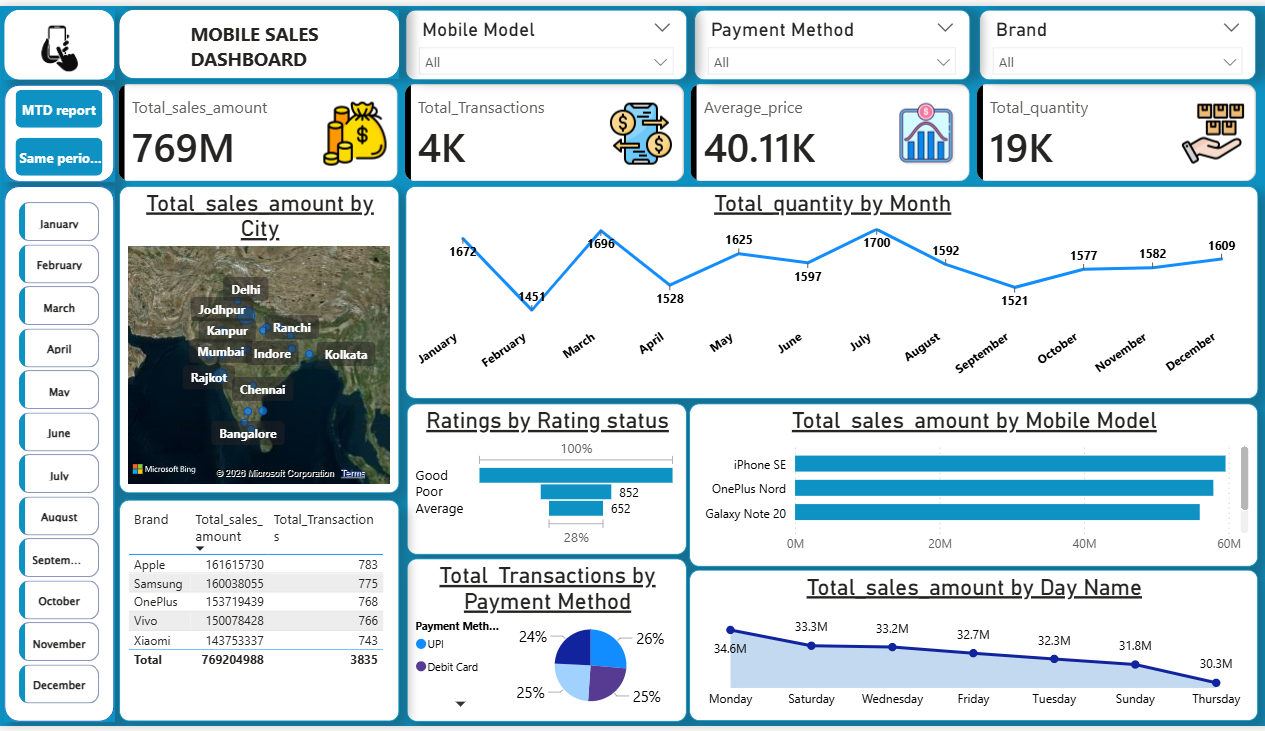

This screenshot's page, from the dashboard's own definition file:
{"tool":"powerbi","page":{"name":"Dashboard","canvas":[1280,720],"ordinal":0},"visuals":[{"type":"shape","box":[5.7,4.3,110,70],"z":0},{"type":"image","box":[20,2.9,82.9,80],"z":1000},{"type":"shape","box":[5.7,78.6,110,97.1],"z":2000},{"type":"shape","box":[5.7,180,110,535.7],"z":3000},{"type":"advancedSlicerVisual","fields":{"Values":["Custom_calendar.Date.Variation.Date Hierarchy.Month"]},"box":[15.7,191.4,90,517.1],"z":4000},{"type":"cardVisual","fields":{"Data":["Mobiles_sales_data.Total_sales_amount","Mobiles_sales_data.Total_Transactions","Mobiles_sales_data.Average_price","Mobiles_sales_data.Total_quantity"]},"box":[104.3,61.4,1174.3,131.4],"z":5000},{"type":"slicer","fields":{"Values":["Mobiles_sales_data.Brand"]},"box":[981.4,4.3,277.1,70],"z":6000},{"type":"slicer","fields":{"Values":["Mobiles_sales_data.Payment Method"]},"box":[695.7,4.3,275.7,70],"z":7000},{"type":"slicer","fields":{"Values":["Mobiles_sales_data.Mobile Model"]},"box":[407.1,4.3,281.4,70],"z":8000},{"type":"shape","box":[121.4,4.3,280,68.6],"z":9000},{"type":"textbox","box":[187.1,10,150,60],"z":10000},{"type":"map","fields":{"Category":["Mobiles_sales_data.City"],"Size":["Mobiles_sales_data.Total_sales_amount"]},"box":[121.4,180,280,307.1],"z":11000},{"type":"lineChart","fields":{"Category":["Custom_calendar.Date.Variation.Date Hierarchy.Month"],"Y":["Mobiles_sales_data.Total_quantity"]},"box":[407.1,180,852.9,212.9],"z":12000},{"type":"funnel","title":" Ratings by Rating status","fields":{"Y":["CountNonNull(Mobiles_sales_data.Customer Ratings)"],"Category":["Mobiles_sales_data.Rating status"]},"box":[408.6,397.1,280,151.4],"z":13000},{"type":"pieChart","fields":{"Y":["Mobiles_sales_data.Total_Transactions"],"Category":["Mobiles_sales_data.Payment Method"]},"box":[408.6,552.9,280,162.9],"z":14000},{"type":"clusteredBarChart","fields":{"Y":["Mobiles_sales_data.Total_sales_amount"],"Category":["Mobiles_sales_data.Mobile Model"]},"box":[691.4,397.1,568.6,162.9],"z":15000},{"type":"areaChart","fields":{"Category":["Custom_calendar.Day Name"],"Y":["Mobiles_sales_data.Total_sales_amount"]},"box":[691.4,564.3,568.6,151.4],"z":16000},{"type":"tableEx","fields":{"Values":["Mobiles_sales_data.Brand","Mobiles_sales_data.Total_sales_amount","Mobiles_sales_data.Total_Transactions"]},"box":[121.4,494.3,280,221.4],"z":17000},{"type":"pageNavigator","box":[17.1,84.3,87.1,87.1],"z":18000}]}

Visuals, with their boxes in screenshot pixels (x1, y1, x2, y2), scaled from the page's 1280x720 canvas onto the 1265x731 screenshot:
shape: Rect(6, 4, 114, 75)
image: Rect(20, 3, 102, 84)
shape: Rect(6, 80, 114, 178)
shape: Rect(6, 183, 114, 727)
advancedSlicerVisual - Custom_calendar.Date.Variation.Date Hierarchy.Month: Rect(16, 194, 104, 719)
cardVisual - Mobiles_sales_data.Total_sales_amount x Mobiles_sales_data.Total_Transactions: Rect(103, 62, 1264, 196)
slicer - Mobiles_sales_data.Brand: Rect(970, 4, 1244, 75)
slicer - Mobiles_sales_data.Payment Method: Rect(688, 4, 960, 75)
slicer - Mobiles_sales_data.Mobile Model: Rect(402, 4, 680, 75)
shape: Rect(120, 4, 397, 74)
textbox: Rect(185, 10, 333, 71)
map - Mobiles_sales_data.City x Mobiles_sales_data.Total_sales_amount: Rect(120, 183, 397, 495)
lineChart - Custom_calendar.Date.Variation.Date Hierarchy.Month x Mobiles_sales_data.Total_quantity: Rect(402, 183, 1245, 399)
" Ratings by Rating status" funnel: Rect(404, 403, 681, 557)
pieChart - Mobiles_sales_data.Total_Transactions x Mobiles_sales_data.Payment Method: Rect(404, 561, 681, 727)
clusteredBarChart - Mobiles_sales_data.Total_sales_amount x Mobiles_sales_data.Mobile Model: Rect(683, 403, 1245, 569)
areaChart - Custom_calendar.Day Name x Mobiles_sales_data.Total_sales_amount: Rect(683, 573, 1245, 727)
tableEx - Mobiles_sales_data.Brand x Mobiles_sales_data.Total_sales_amount: Rect(120, 502, 397, 727)
pageNavigator: Rect(17, 86, 103, 174)
